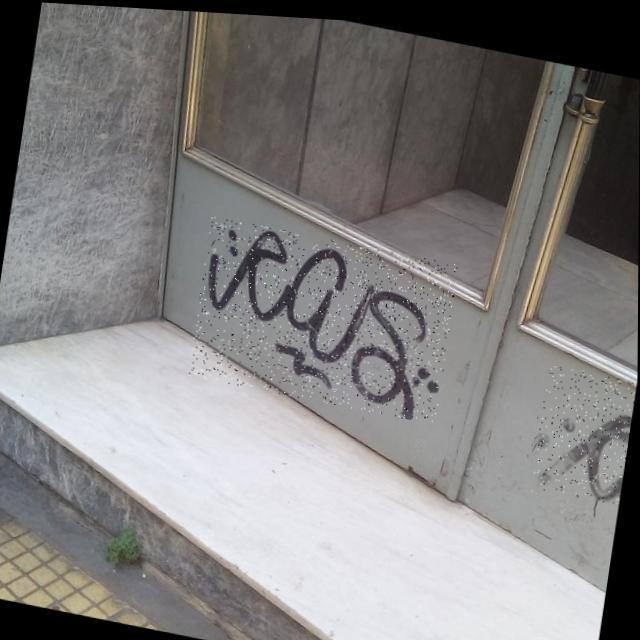-: (188, 212, 459, 420), (531, 356, 638, 498)
